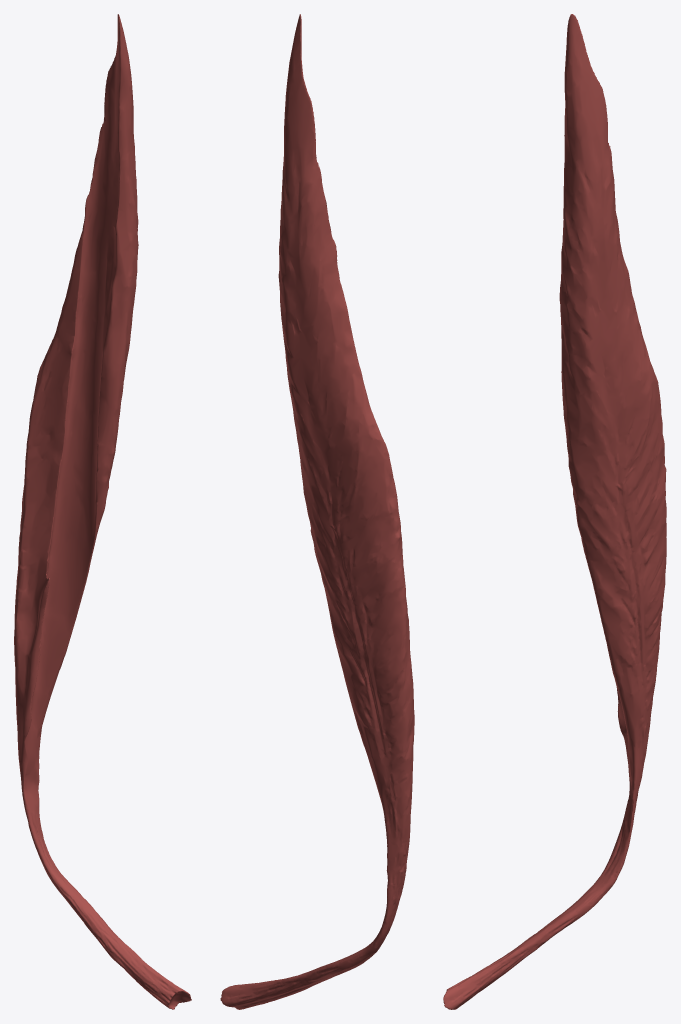
File: FMA22555.glb
3 renders of one model, left to right at view 1: azimuth 30°, elevation 25°; view 2: azimuth 210°, elevation 25°; view 3: azimuth 270°, elevation 25°, orthographic. The views are drawn at different scales.
Parts seen in each view (by area): view 1: FMA22555; view 2: FMA22555; view 3: FMA22555.
Boxes of the visible parts, left/top/right/bottom form: FMA22555: left=14, top=14, right=191, bottom=1009; FMA22555: left=220, top=14, right=414, bottom=1009; FMA22555: left=443, top=14, right=666, bottom=1009.
Bounding box in the file's own units: 0.0266 × 0.2602 × 0.0529.
